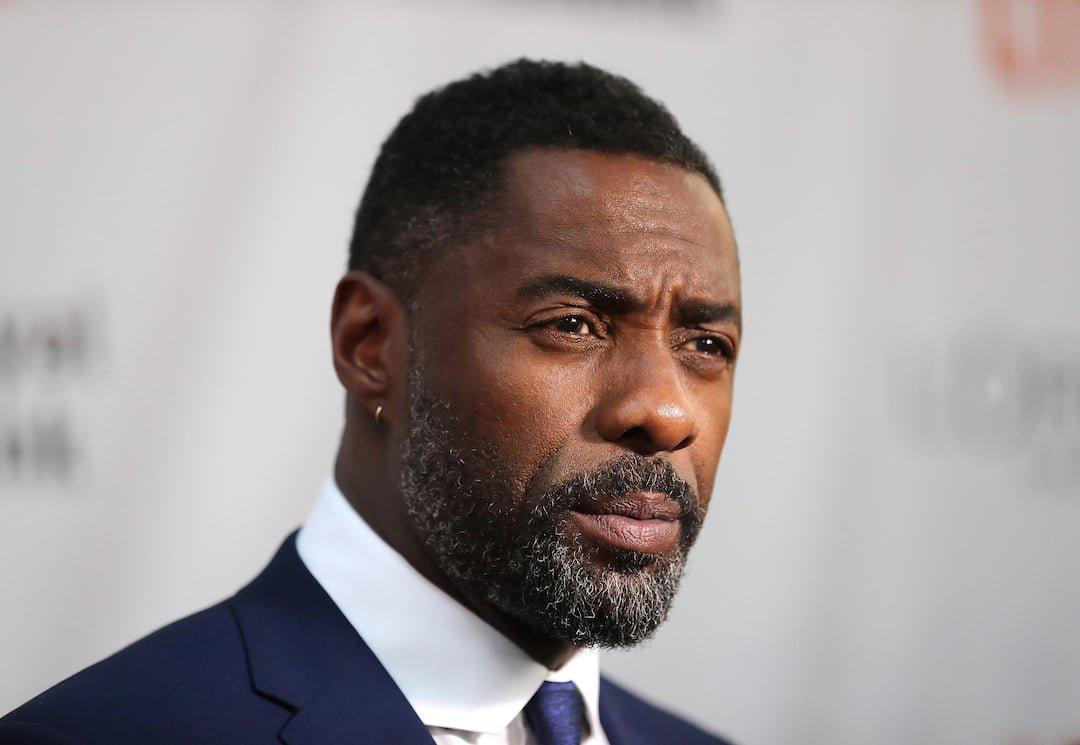Sober: (454, 169, 736, 612)
